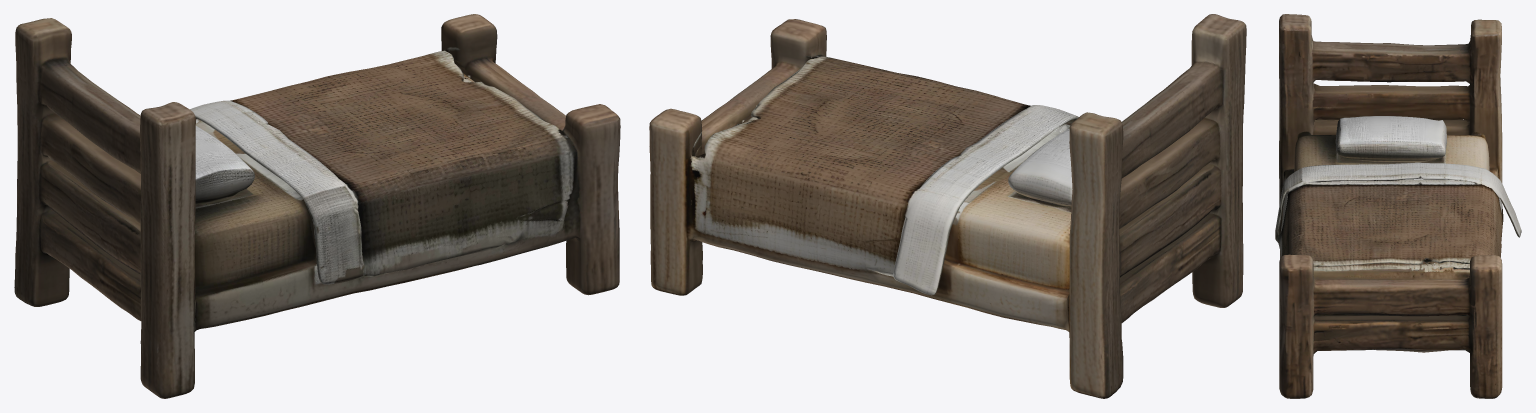
Rendered from tripo_convert_570f986f-911e-4c25-9075-19c7a6b628df.fbx.
The picture shows the model from 3 angles, left to right: view 1: azimuth 30°, elevation 25°; view 2: azimuth 150°, elevation 25°; view 3: azimuth 270°, elevation 25°; orthographic projection. The views are drawn at different scales.
Visible parts, largest first — view 1: tripo_node_570f986f; view 2: tripo_node_570f986f; view 3: tripo_node_570f986f.
Part boxes in pixels (<box>): tripo_node_570f986f: <box>14,14,620,398</box>; tripo_node_570f986f: <box>649,14,1246,398</box>; tripo_node_570f986f: <box>1275,14,1521,398</box>.
Size of the model in its own units: 0.9994 by 0.5769 by 0.5984.
